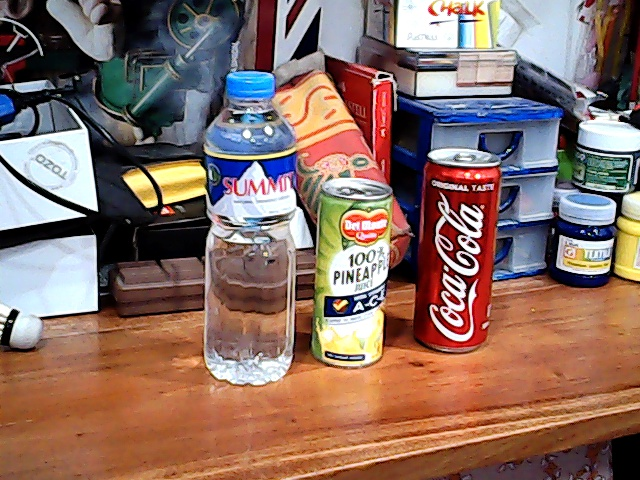Cola: (404, 135, 510, 358)
Pine Juice: (302, 172, 395, 369)
Summit Water: (203, 71, 303, 396)
